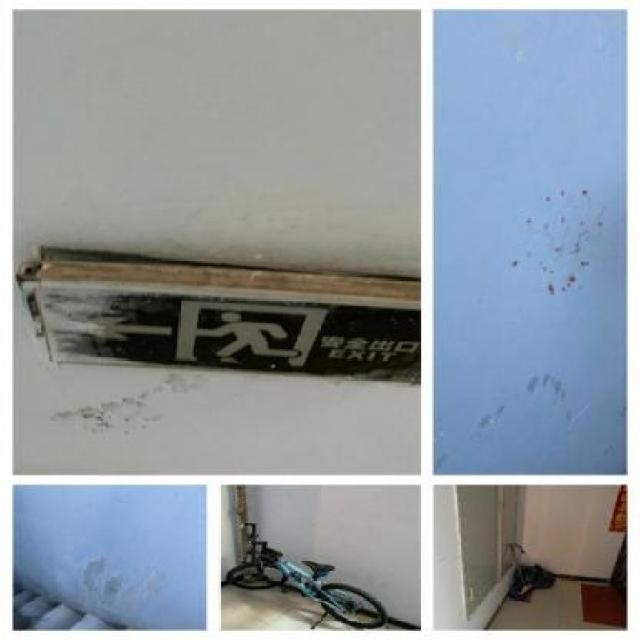exit_sign: (34, 252, 428, 400)
